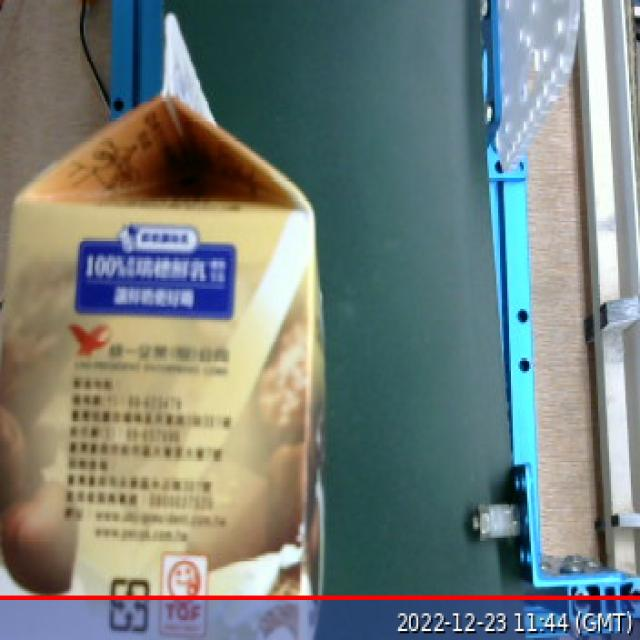non_white_jug: (2, 4, 335, 640)
